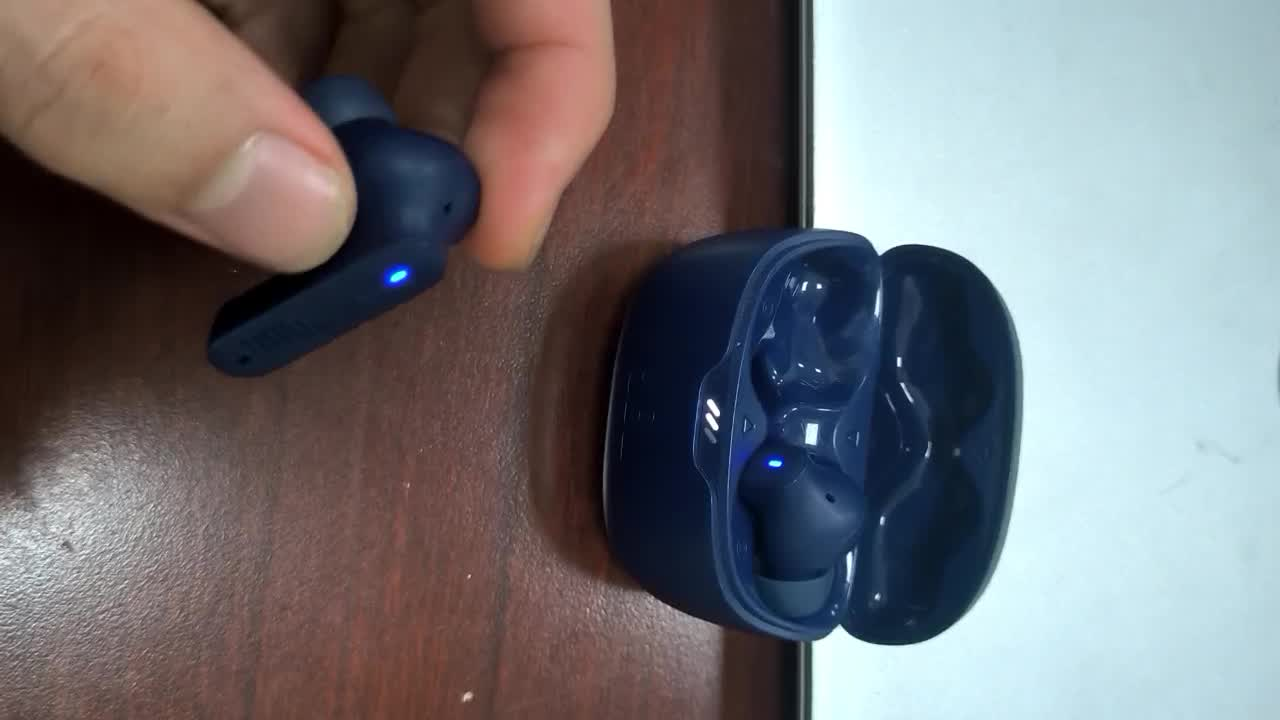Case: (601, 222, 1038, 656)
Earbud: (208, 76, 479, 374), (738, 441, 865, 616)
Empty_Slot: (741, 237, 888, 431)
